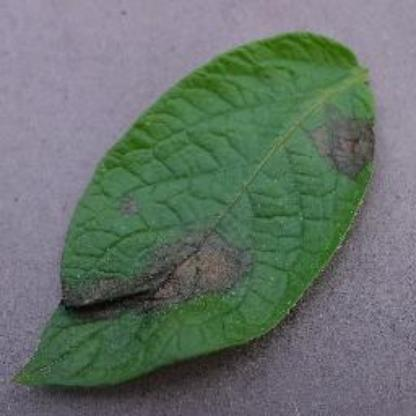Late-Blight: (24, 20, 392, 400)
